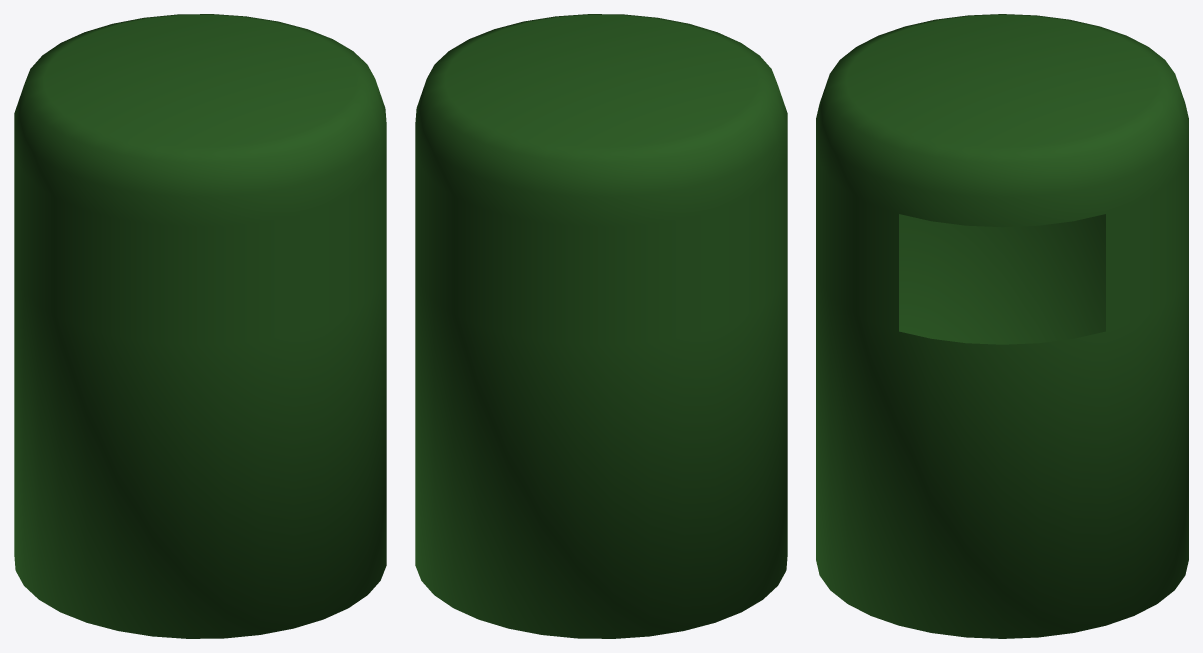
File: basura_3.fbx
The picture shows the model from 3 angles, left to right: view 1: azimuth 30°, elevation 25°; view 2: azimuth 150°, elevation 25°; view 3: azimuth 270°, elevation 25°; orthographic projection.
Parts seen in each view (by area): view 1: BASURA 2; view 2: BASURA 2; view 3: BASURA 2.
Part boxes in pixels (bbox=[...]): BASURA 2: bbox=[14, 14, 386, 638]; BASURA 2: bbox=[415, 14, 787, 638]; BASURA 2: bbox=[816, 14, 1188, 638].
Bounding box in the file's own units: 297 × 421 × 297.
